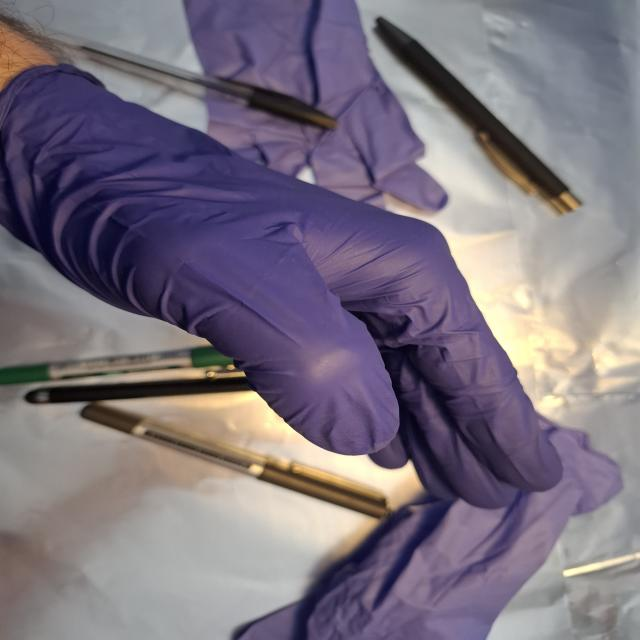glove_on: (4, 64, 565, 505)
